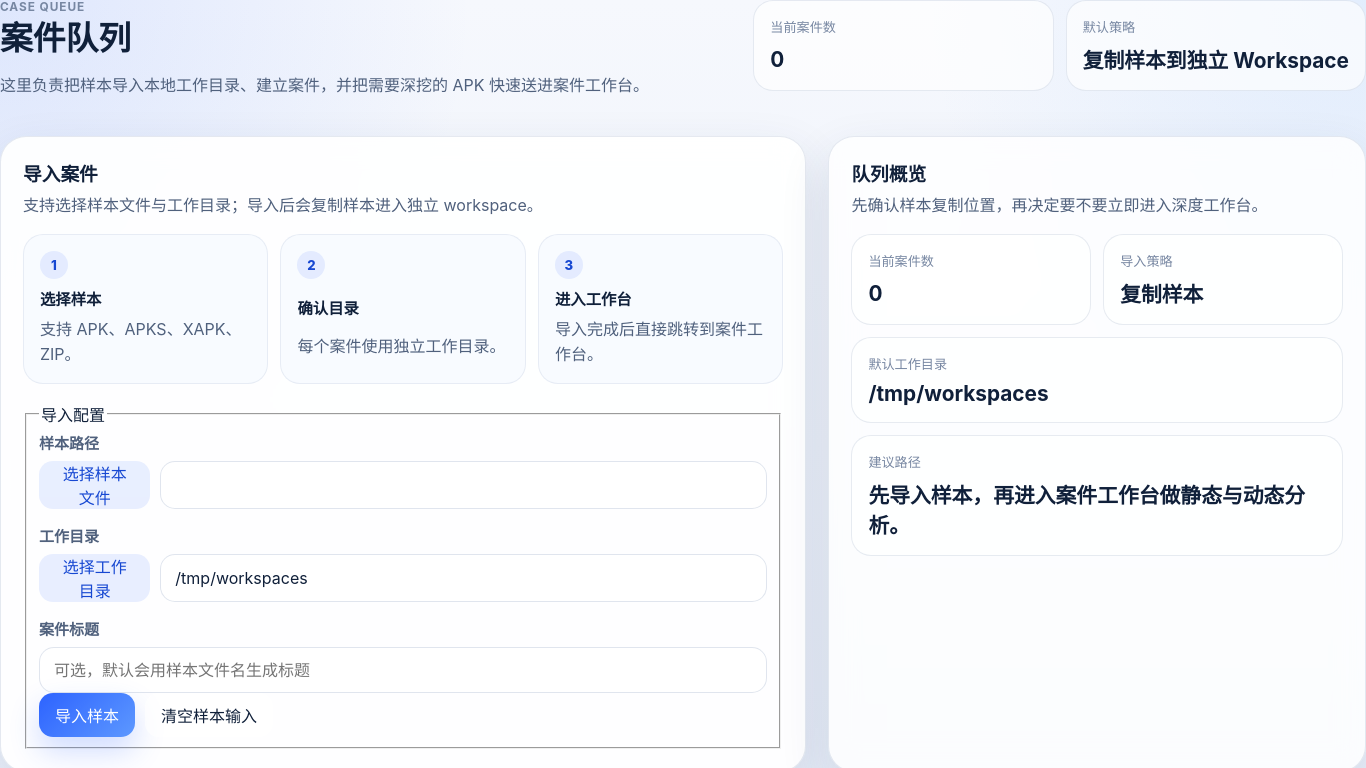
Scenario: CaseQueuePage › surfaces the backend import failure detail to help local debugging
Expected: the field labelled "工作目录" holds "/tmp/workspaces", [160,554,767,602]
Type "/tmp/missing.apk" into the field labelled "样本路径" at (464, 485), box [160,461,767,509]
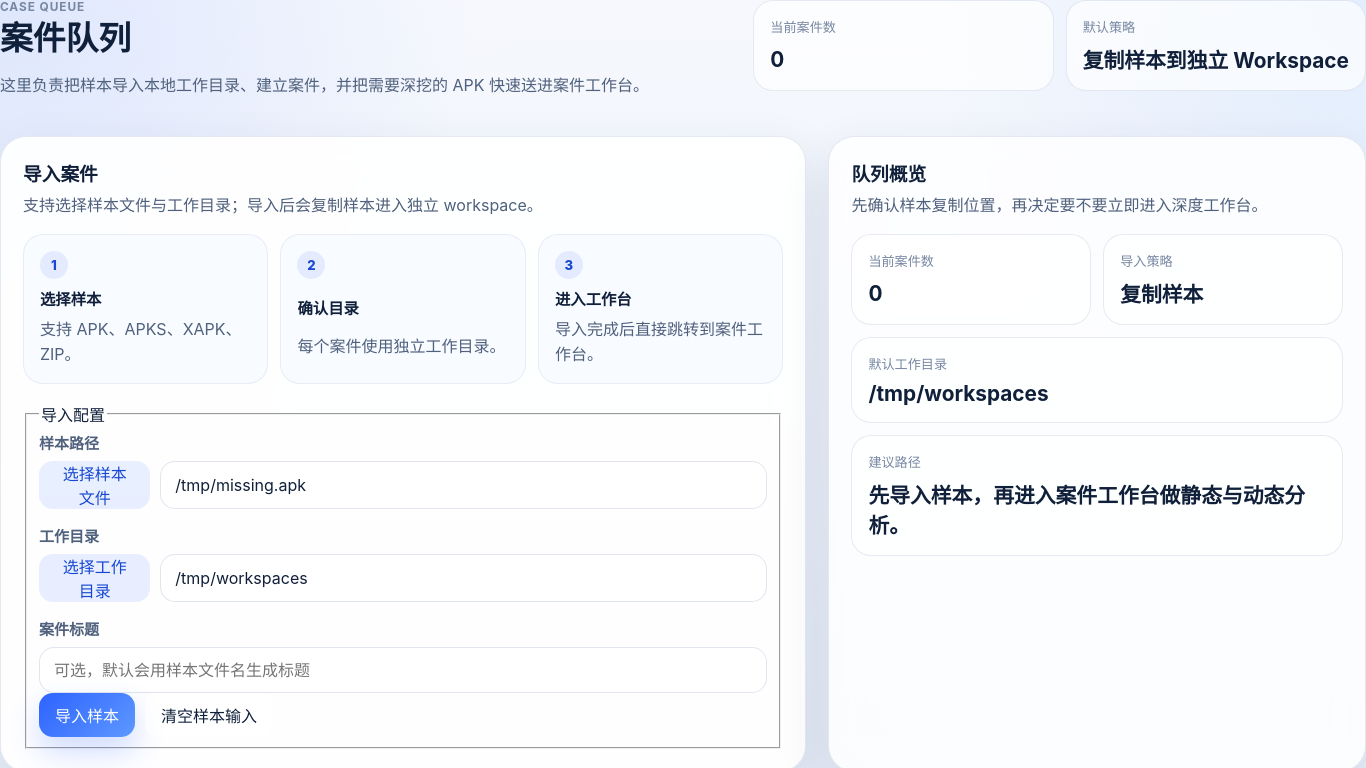
Submit the form "导入样本", box [23,402,783,749]
(page scrolled)
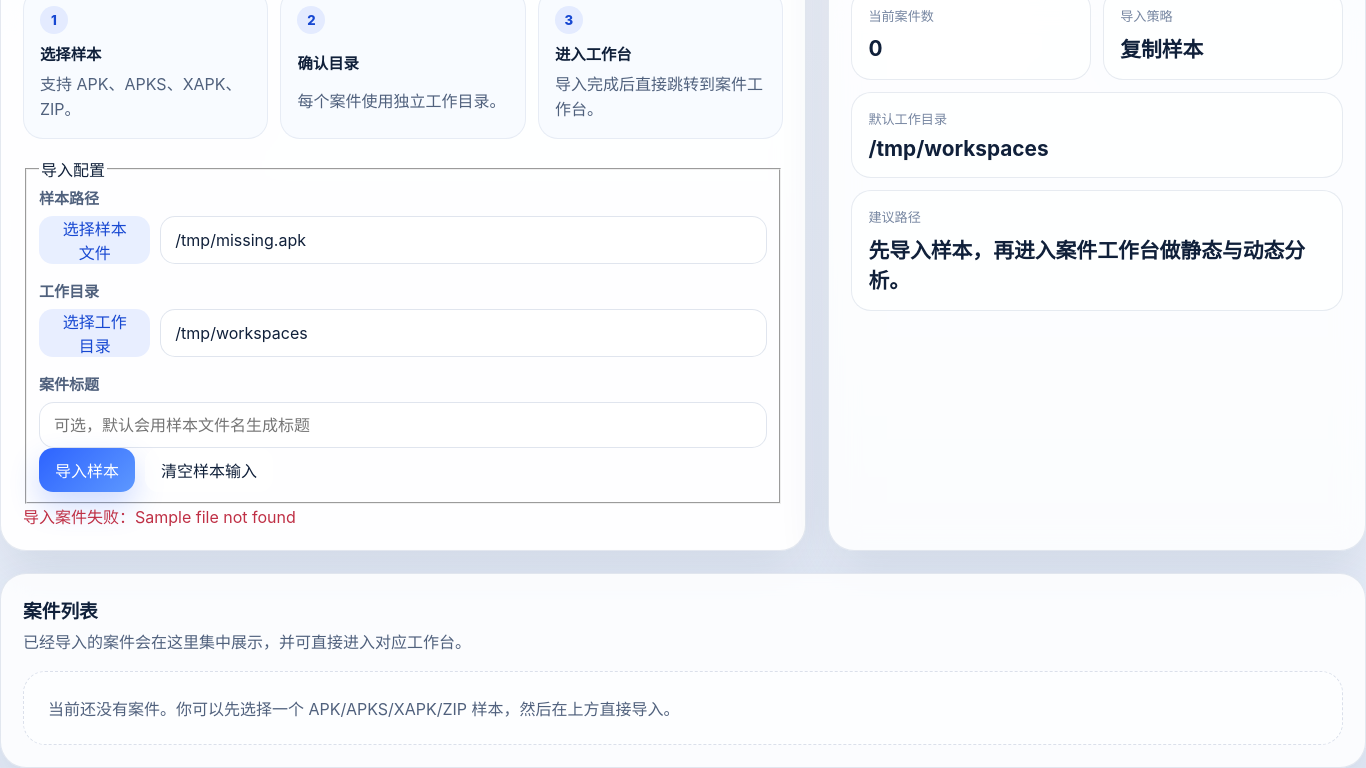
Now the message reads "导入案件失败：Sample file not found", box [23,507,296,527]
